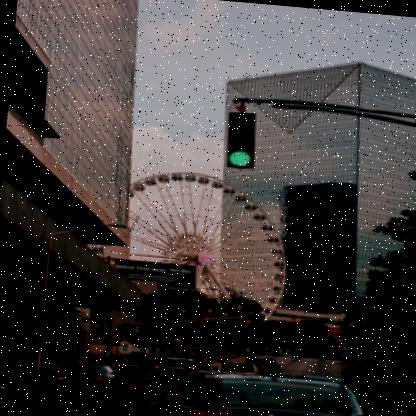trafficlight: (221, 109, 258, 170)
